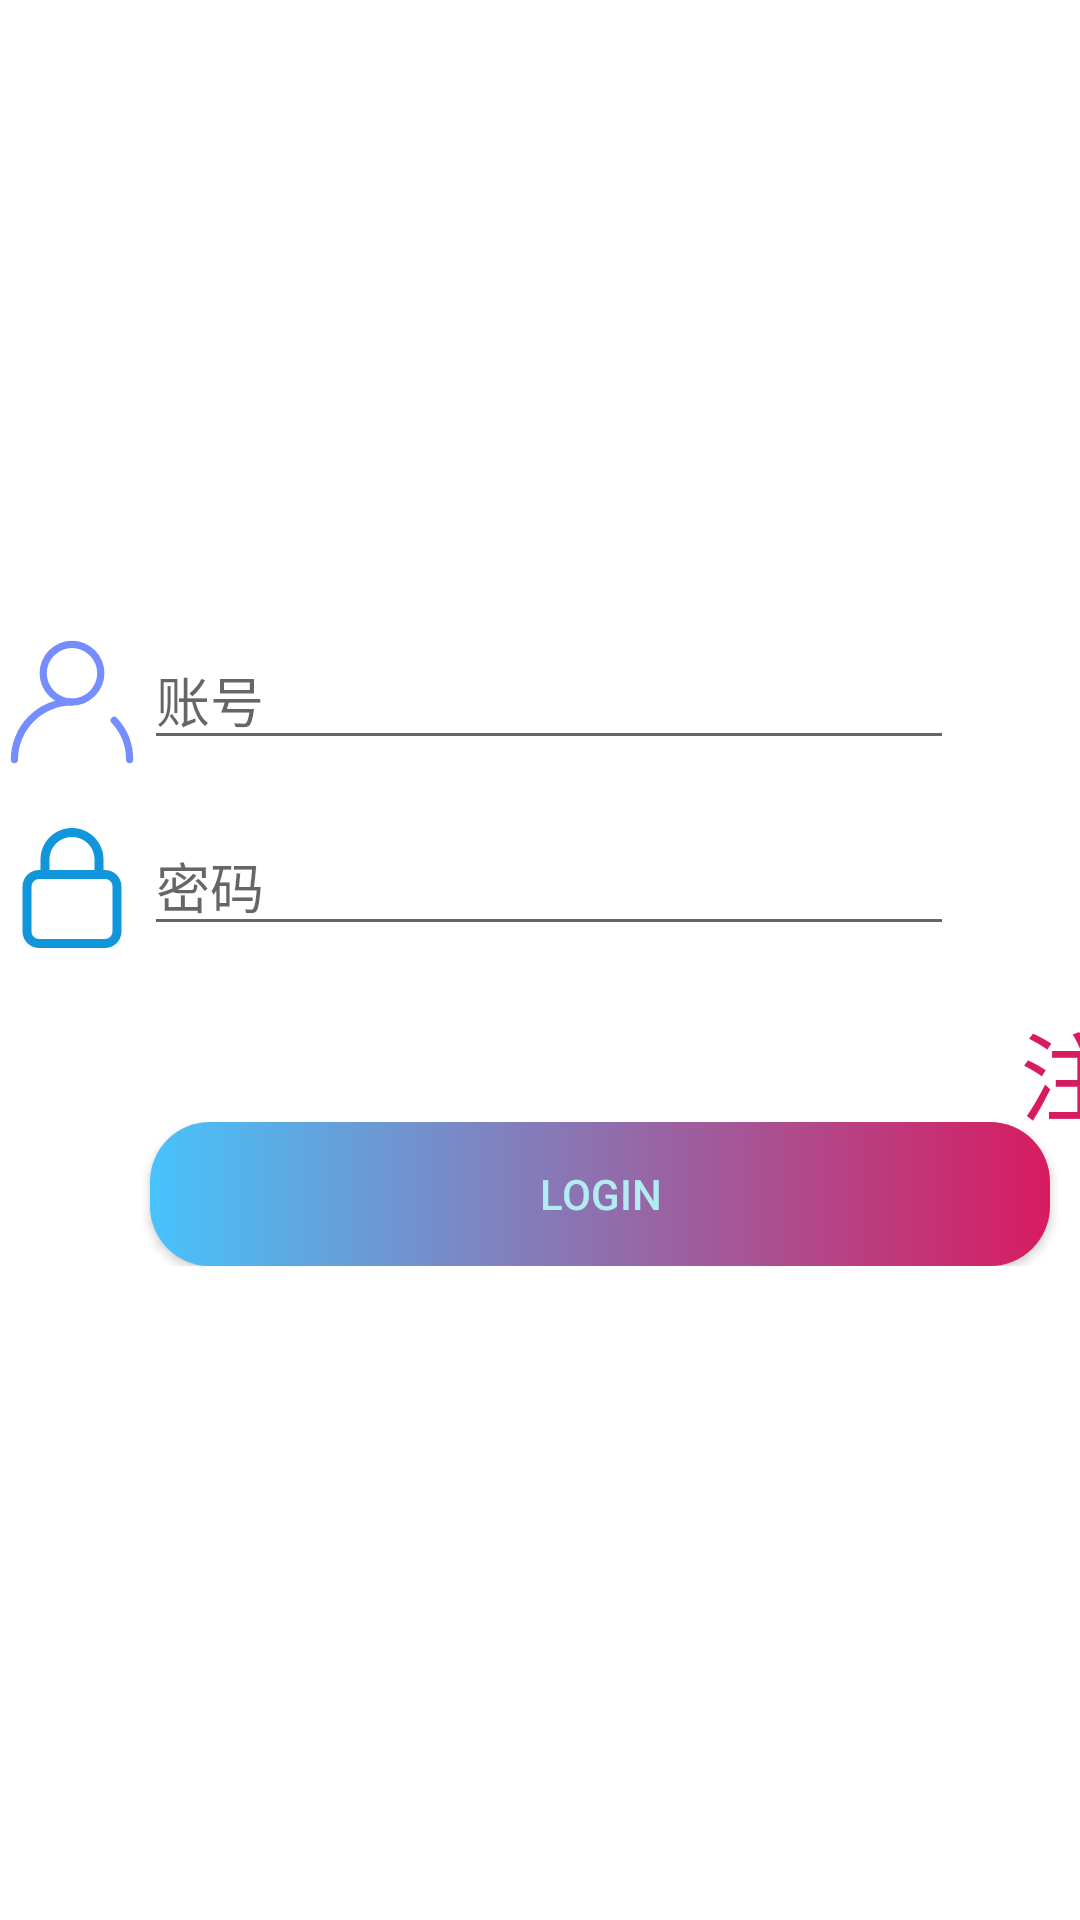

Named icons in this screenshot (1080 x 1920) and their bounding boxes, (x1=x1, y1=y1, x2=x2, y2=y2):
login lock: (x1=22, y1=828, x2=122, y2=948)
login person: (x1=10, y1=640, x2=133, y2=764)
